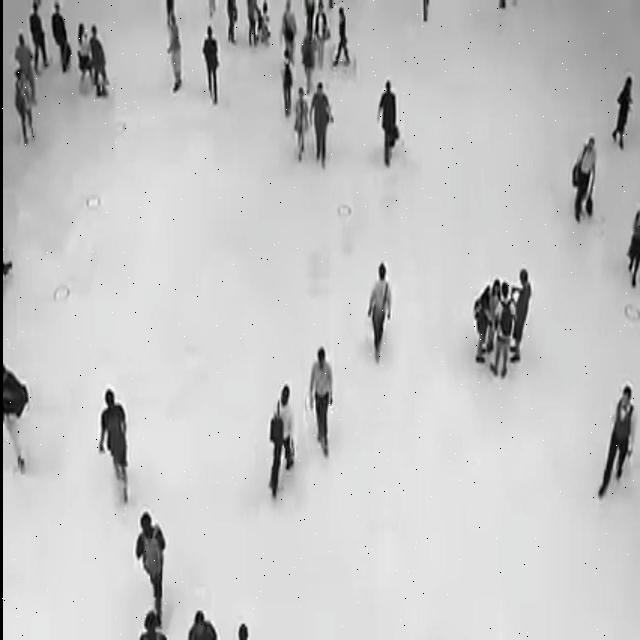humans: (596, 382, 636, 516), (305, 344, 341, 458), (98, 385, 131, 508), (134, 506, 168, 610), (267, 381, 295, 501), (564, 132, 598, 229), (367, 257, 393, 371), (604, 74, 635, 153), (466, 279, 493, 367), (492, 282, 514, 386), (513, 261, 533, 370), (309, 80, 333, 169), (377, 77, 399, 169), (13, 67, 32, 159), (202, 24, 220, 109), (50, 1, 69, 74), (91, 21, 109, 96), (291, 86, 308, 164), (332, 4, 351, 72), (167, 11, 182, 96), (279, 48, 296, 119), (31, 1, 48, 71), (315, 0, 331, 68), (301, 28, 317, 96), (280, 1, 296, 62), (77, 18, 88, 87), (14, 30, 32, 68), (258, 1, 270, 45), (491, 278, 501, 310)
